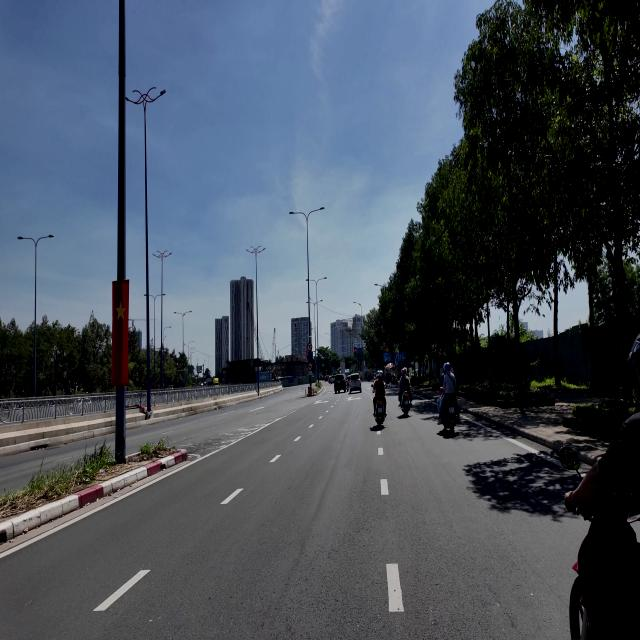car: (348, 374, 361, 394), (334, 374, 347, 393)
motorcycle: (570, 486, 639, 639), (441, 388, 459, 433), (375, 399, 384, 426), (401, 392, 410, 416)
